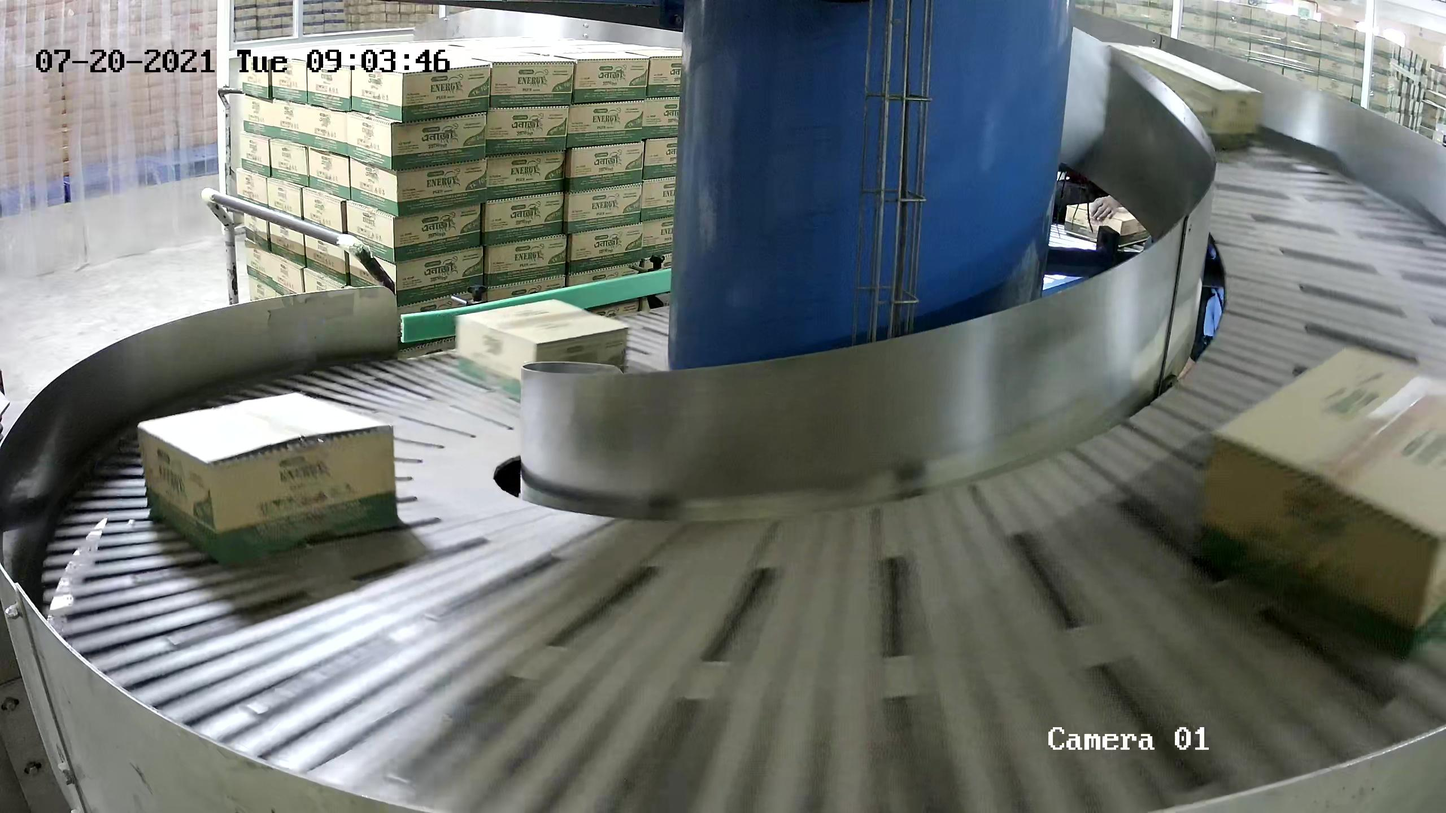Box: (1197, 344, 1446, 660), (136, 391, 401, 567), (1085, 41, 1266, 154), (455, 298, 631, 402)
